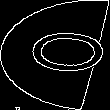O_E: (5, 30, 105, 80)
